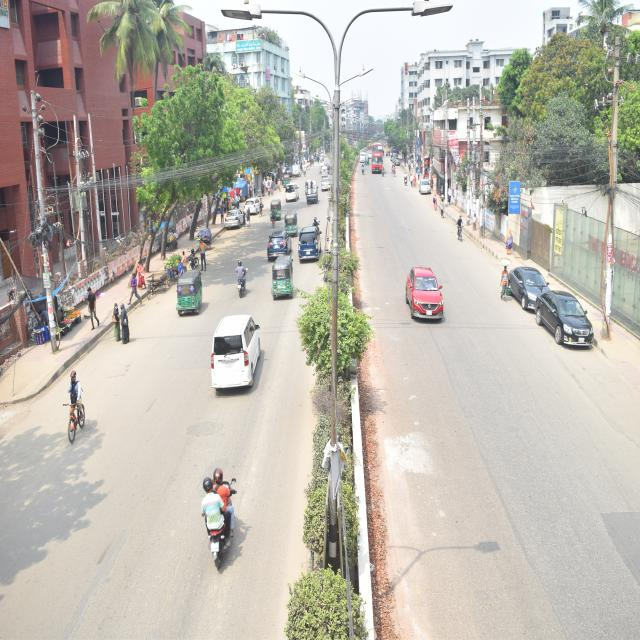bus: (371, 136, 389, 184)
car: (385, 238, 478, 369), (195, 294, 298, 408), (491, 242, 566, 324), (536, 284, 606, 346), (297, 205, 329, 280), (236, 176, 274, 228), (221, 200, 254, 250), (260, 217, 292, 264), (410, 167, 441, 204), (318, 163, 336, 206), (279, 178, 302, 206)
motorbike: (182, 430, 262, 568), (223, 249, 256, 304), (309, 211, 334, 248), (358, 163, 369, 180)
